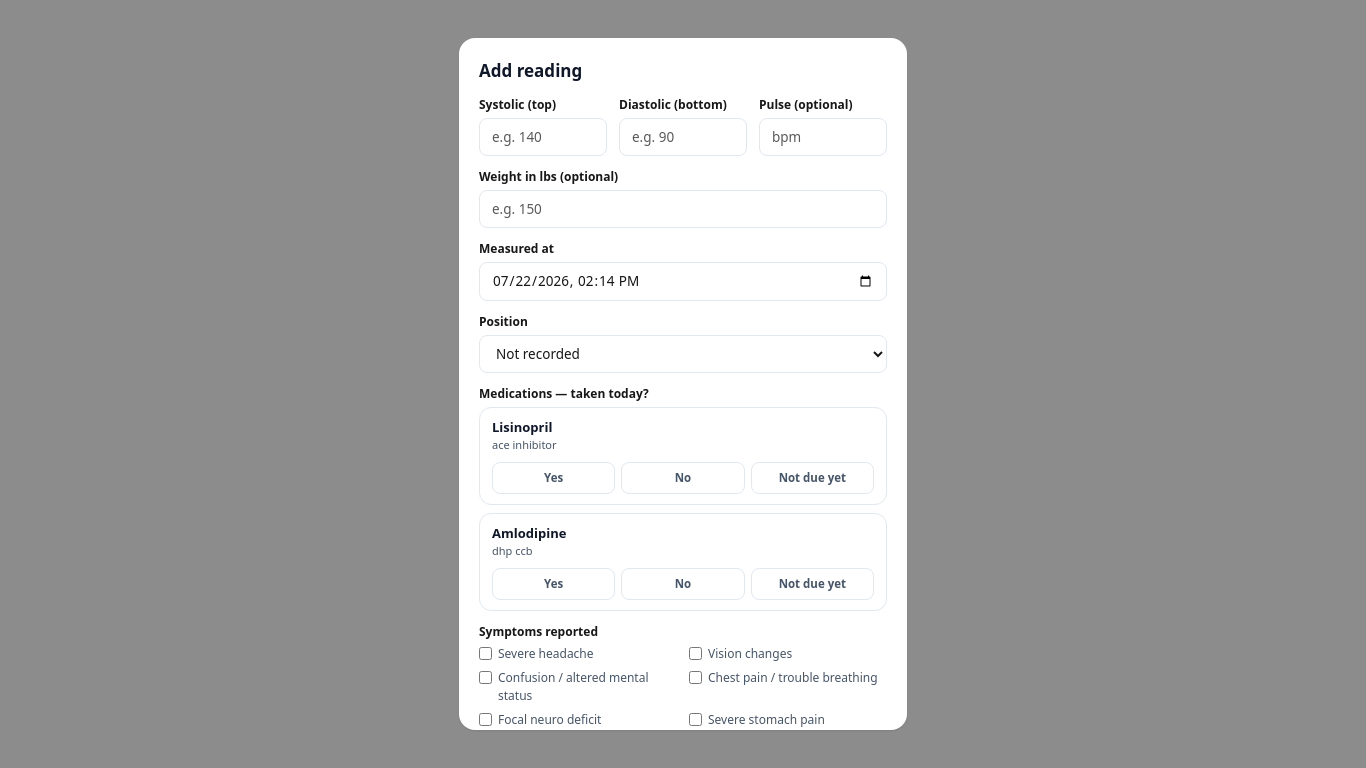
Scenario: AddEditReadingModal — medication adherence (patient check-in parity) › derives the same aggregates as the patient check-in (yes + missed mix)
Type "140" into the number field with test id "admin-reading-systolic". click: (543, 137)
box: [479,118,607,156]
Type "90" into the number field with test id "admin-reading-diastolic". click: (683, 137)
box: [619,118,747,156]
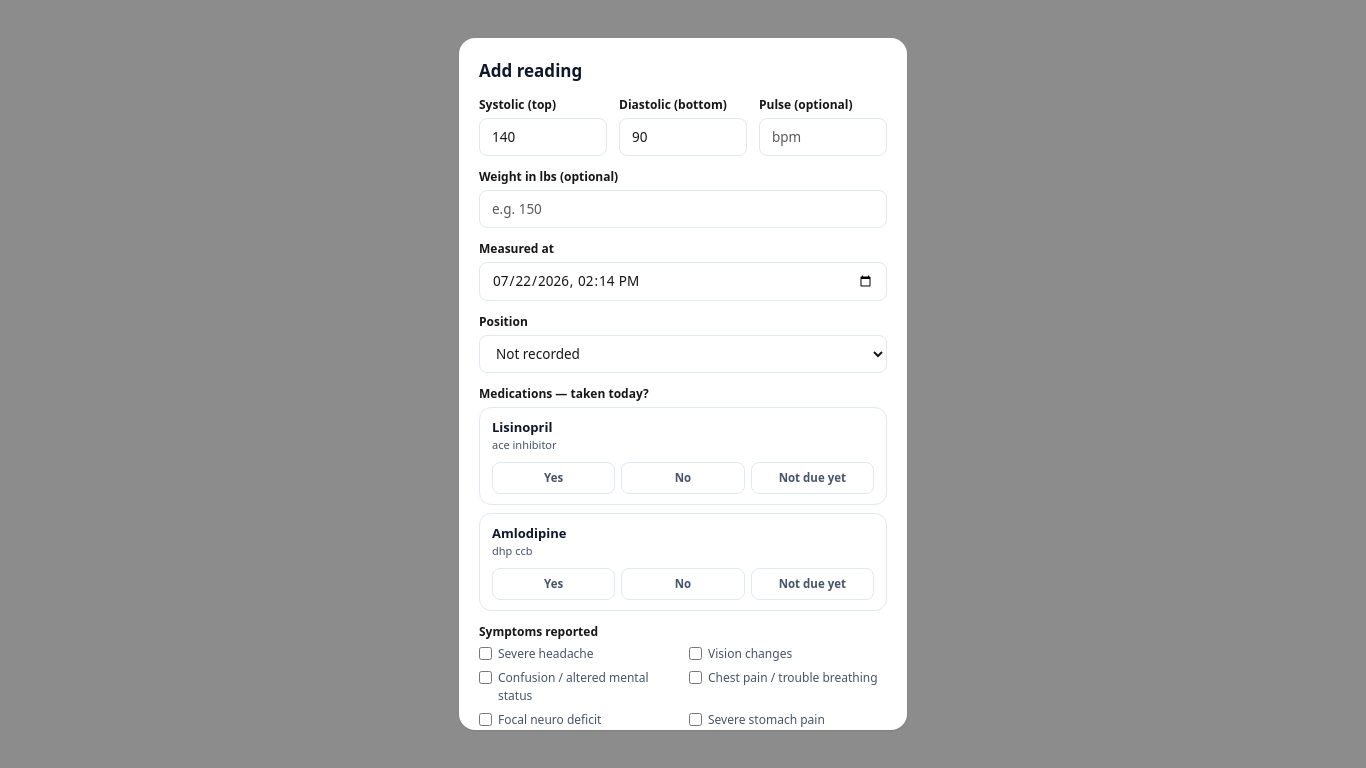
Click the button with test id "admin-reading-med-med-1-yes". click: (554, 478)
box: [492,462,615,494]
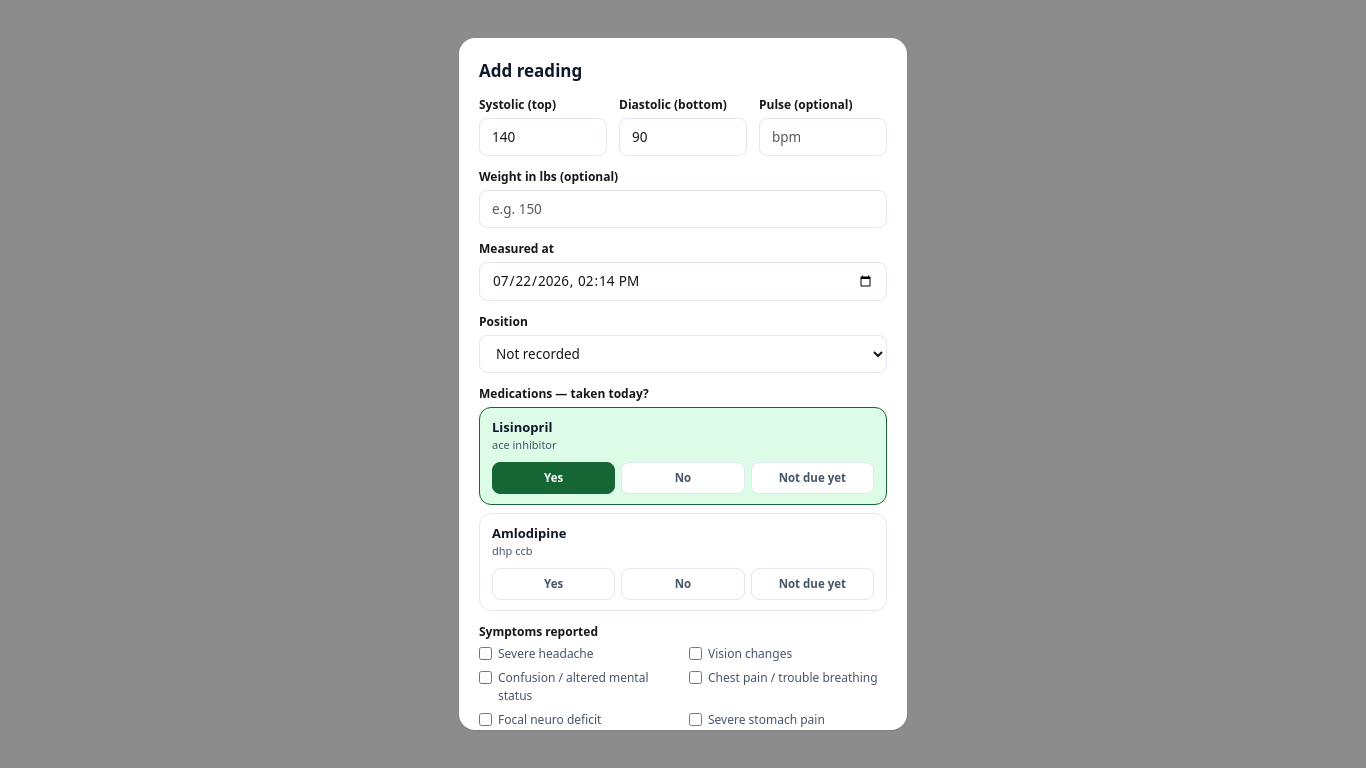
Click the button with test id "admin-reading-med-med-2-no". click: (683, 584)
box: [621,568,745,600]
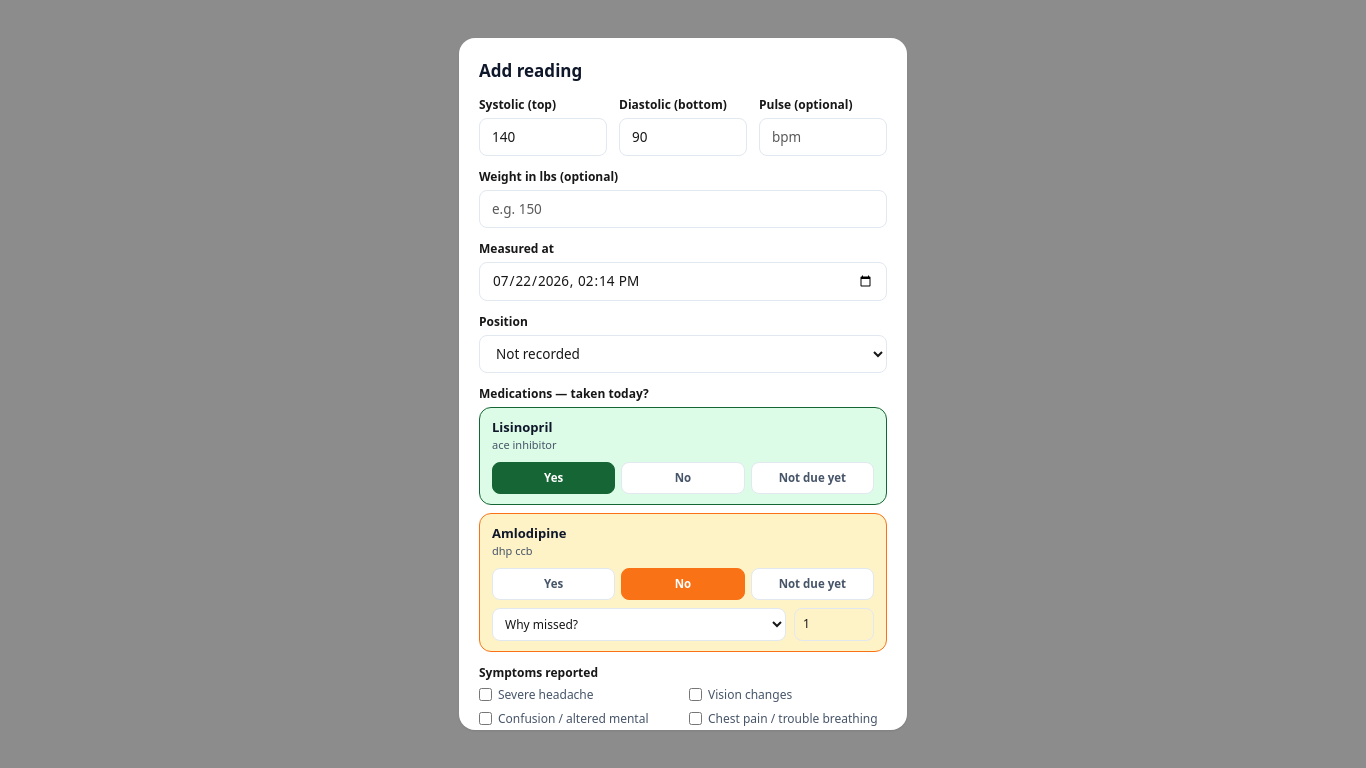
Select "Forgot" in the dropdown with test id "admin-reading-med-med-2-reason". click: (639, 624)
box: [492,608,786,641]
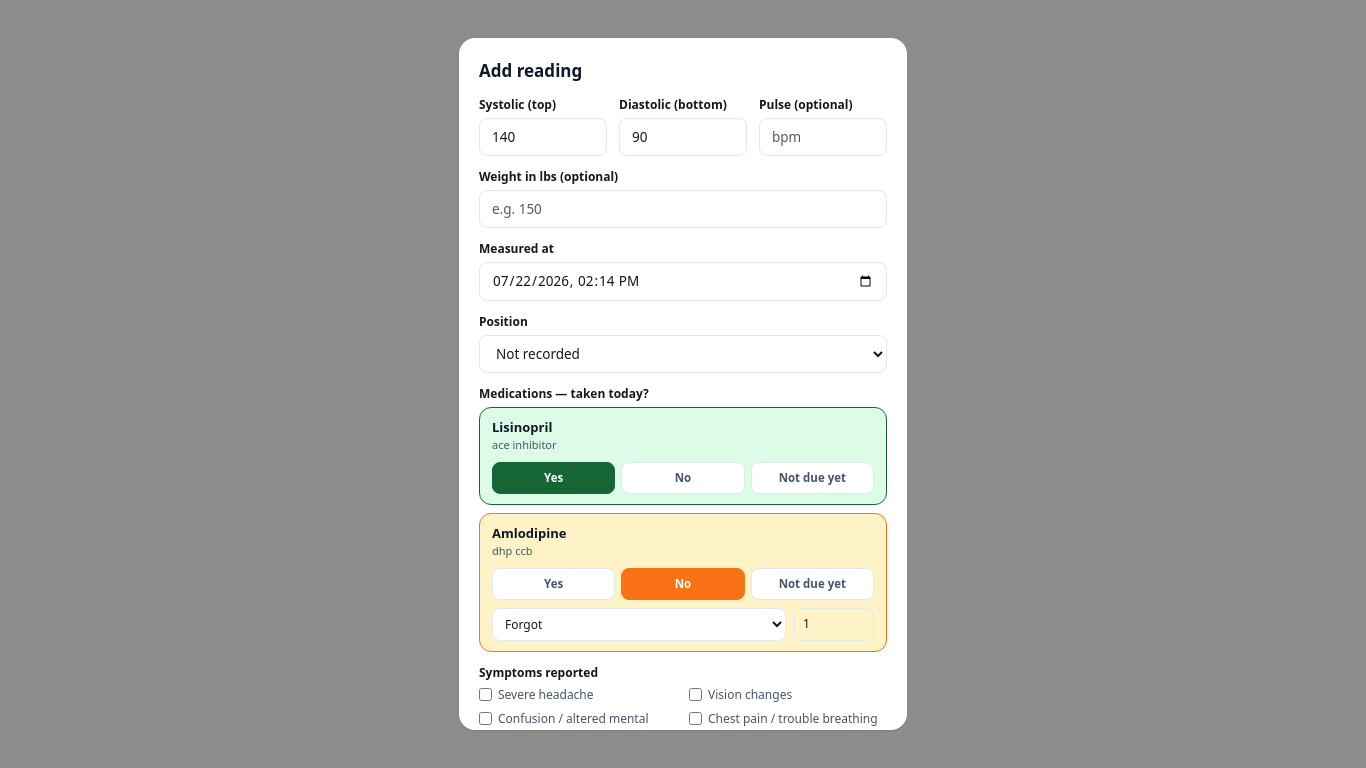
Replace the text in the number field with test id "admin-reading-med-med-2-doses" with "2". click: (834, 624)
box: [794,608,874,641]
(page scrolled)
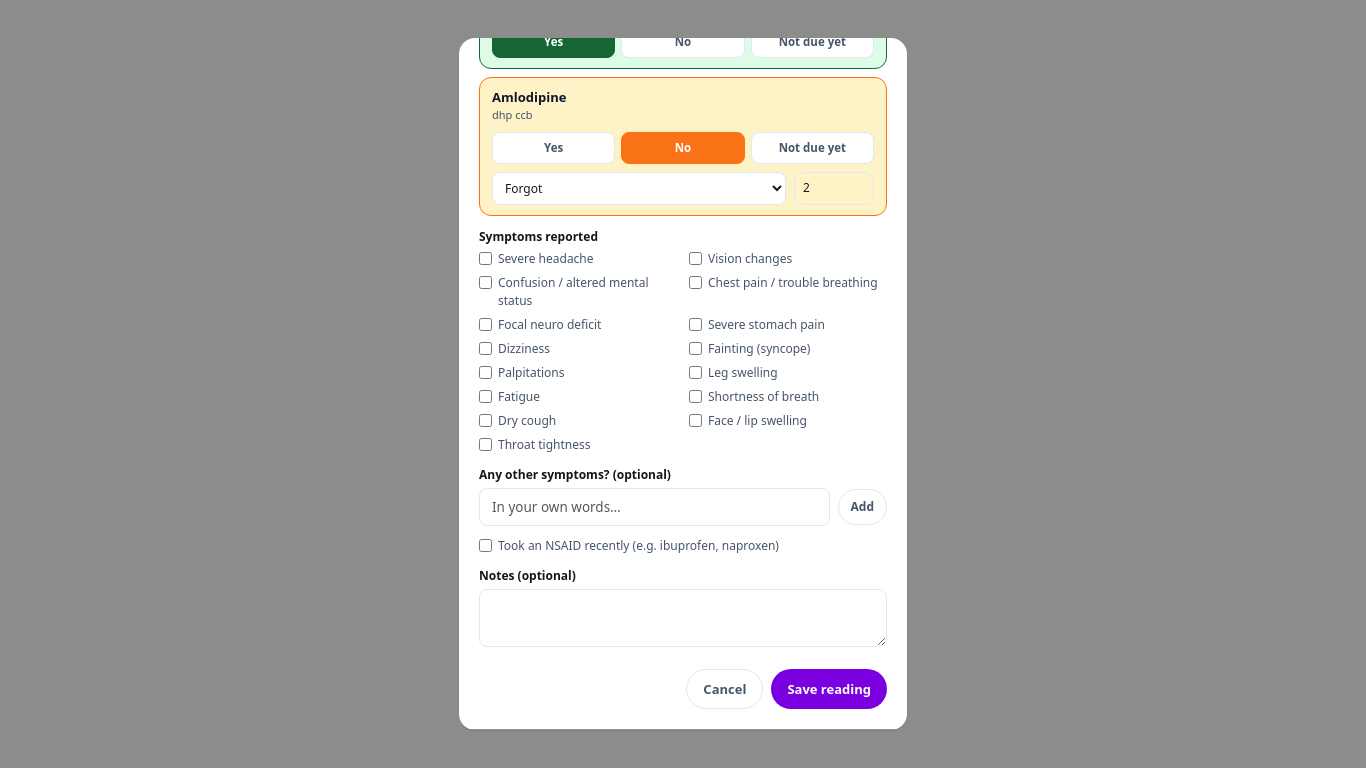
Click the button with test id "admin-reading-save". click: (829, 689)
box: [771,669,887,709]
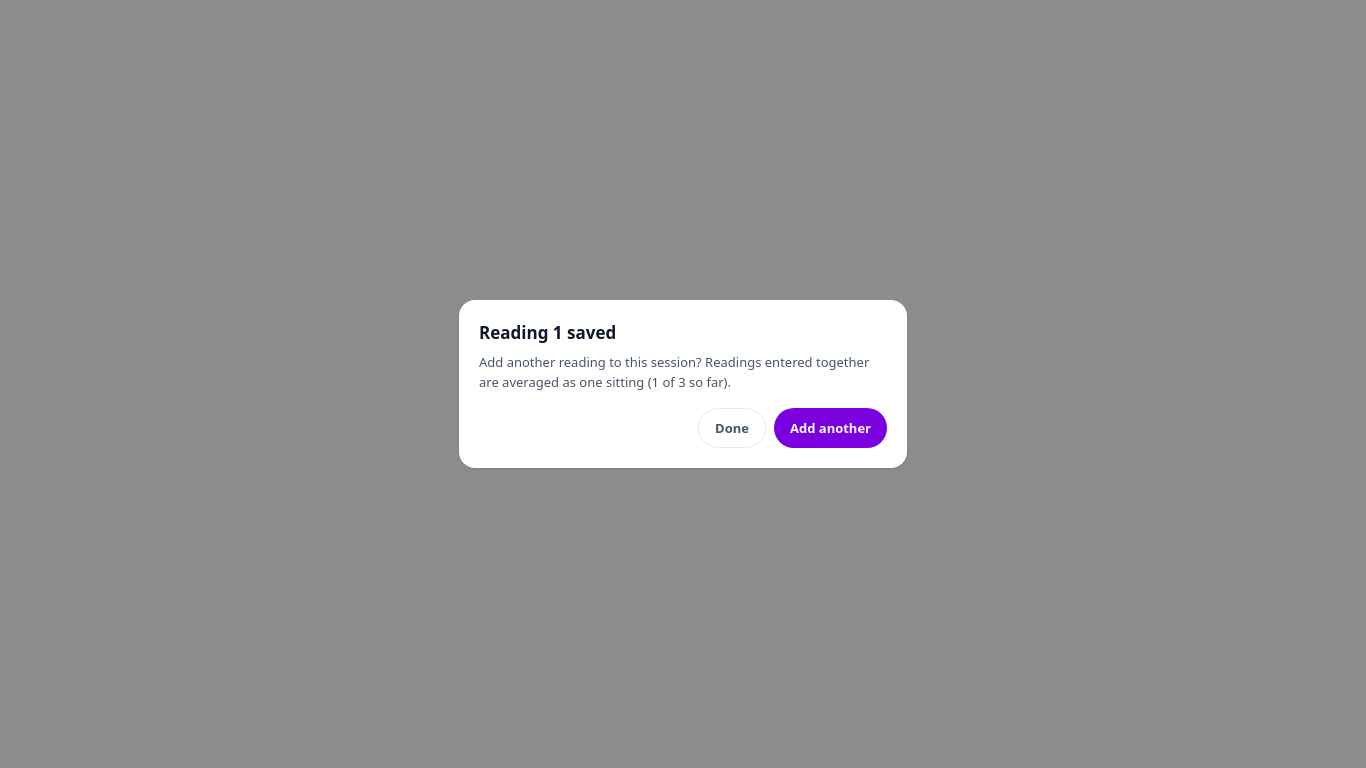
Expected: the element with test id "admin-reading-followup" is shown, [479,320,887,448]
